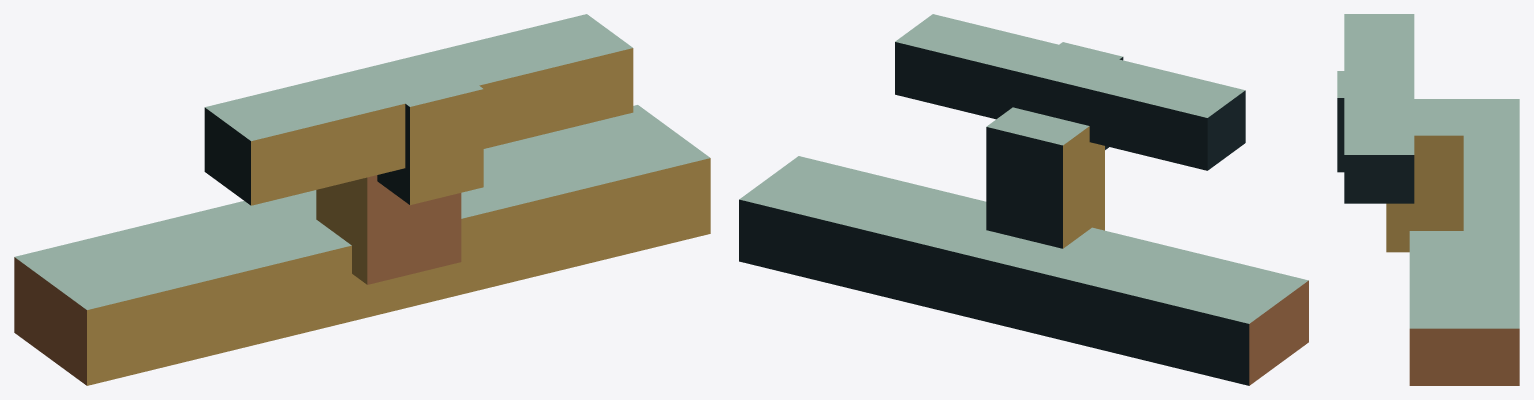
File: valvula_secundaria.glb
The picture shows the model from 3 angles, left to right: view 1: azimuth 30°, elevation 25°; view 2: azimuth 150°, elevation 25°; view 3: azimuth 270°, elevation 25°; orthographic projection. The views are drawn at different scales.
Visible parts, largest first — view 1: ELECTRICO; view 2: ELECTRICO; view 3: ELECTRICO.
Boxes of the visible parts, x1,y1,x2,y2 form: ELECTRICO: (14,14,710,385); ELECTRICO: (739,14,1308,385); ELECTRICO: (1337,14,1519,385).
Bounding box in the file's own units: 0.3543 × 0.1341 × 0.1189.
1 material, 1 textured.
